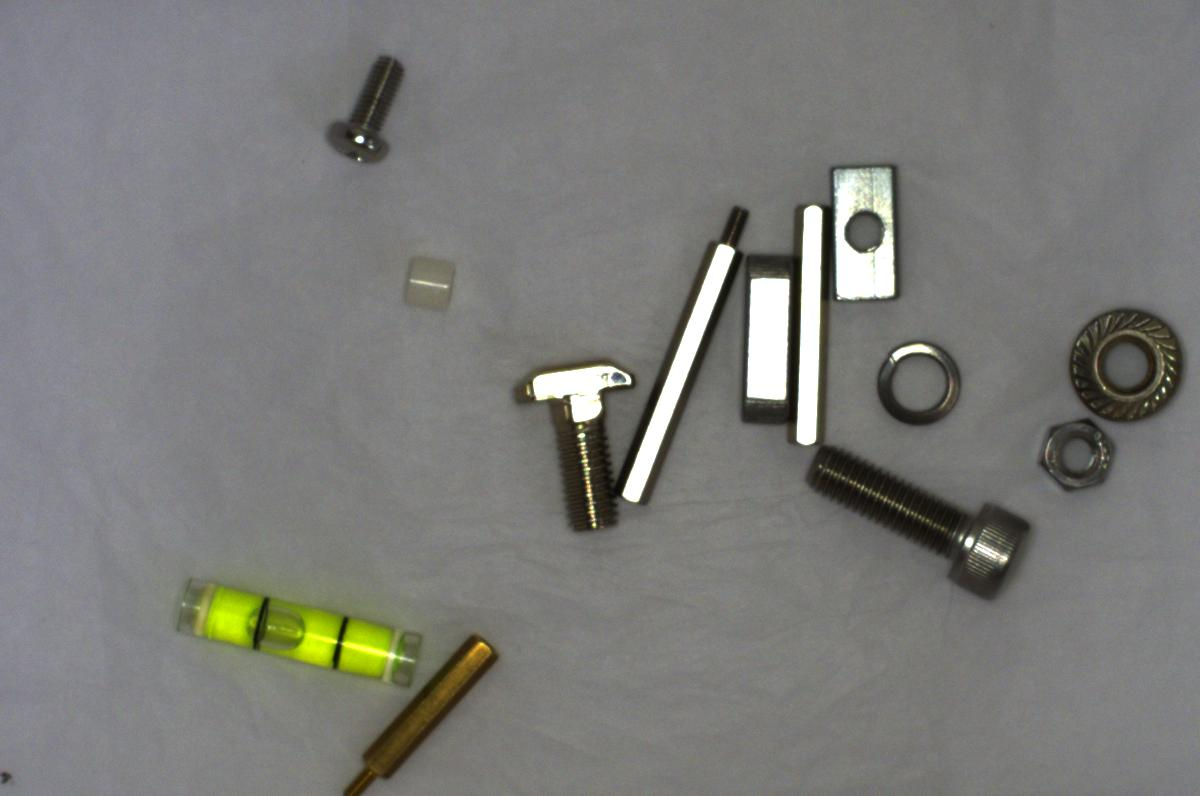Double hexagonal column: (789, 194, 837, 449)
Flange nut: (1065, 292, 1185, 428)
Hexagon nut: (1025, 409, 1123, 499)
Hexagon pillar: (337, 619, 508, 795)
Hexagon screw: (797, 441, 1047, 605)
Hexagonal steel column: (597, 190, 753, 503)
Horizontal bubble: (162, 576, 432, 695)
Keybar: (733, 250, 796, 421)
Plastic cushion pillar: (396, 249, 462, 317)
Rectangular nut: (825, 156, 908, 312)
Round head screw: (316, 41, 414, 163)
Spring washer: (870, 335, 967, 430)
T-shaped screw: (479, 335, 638, 537)
